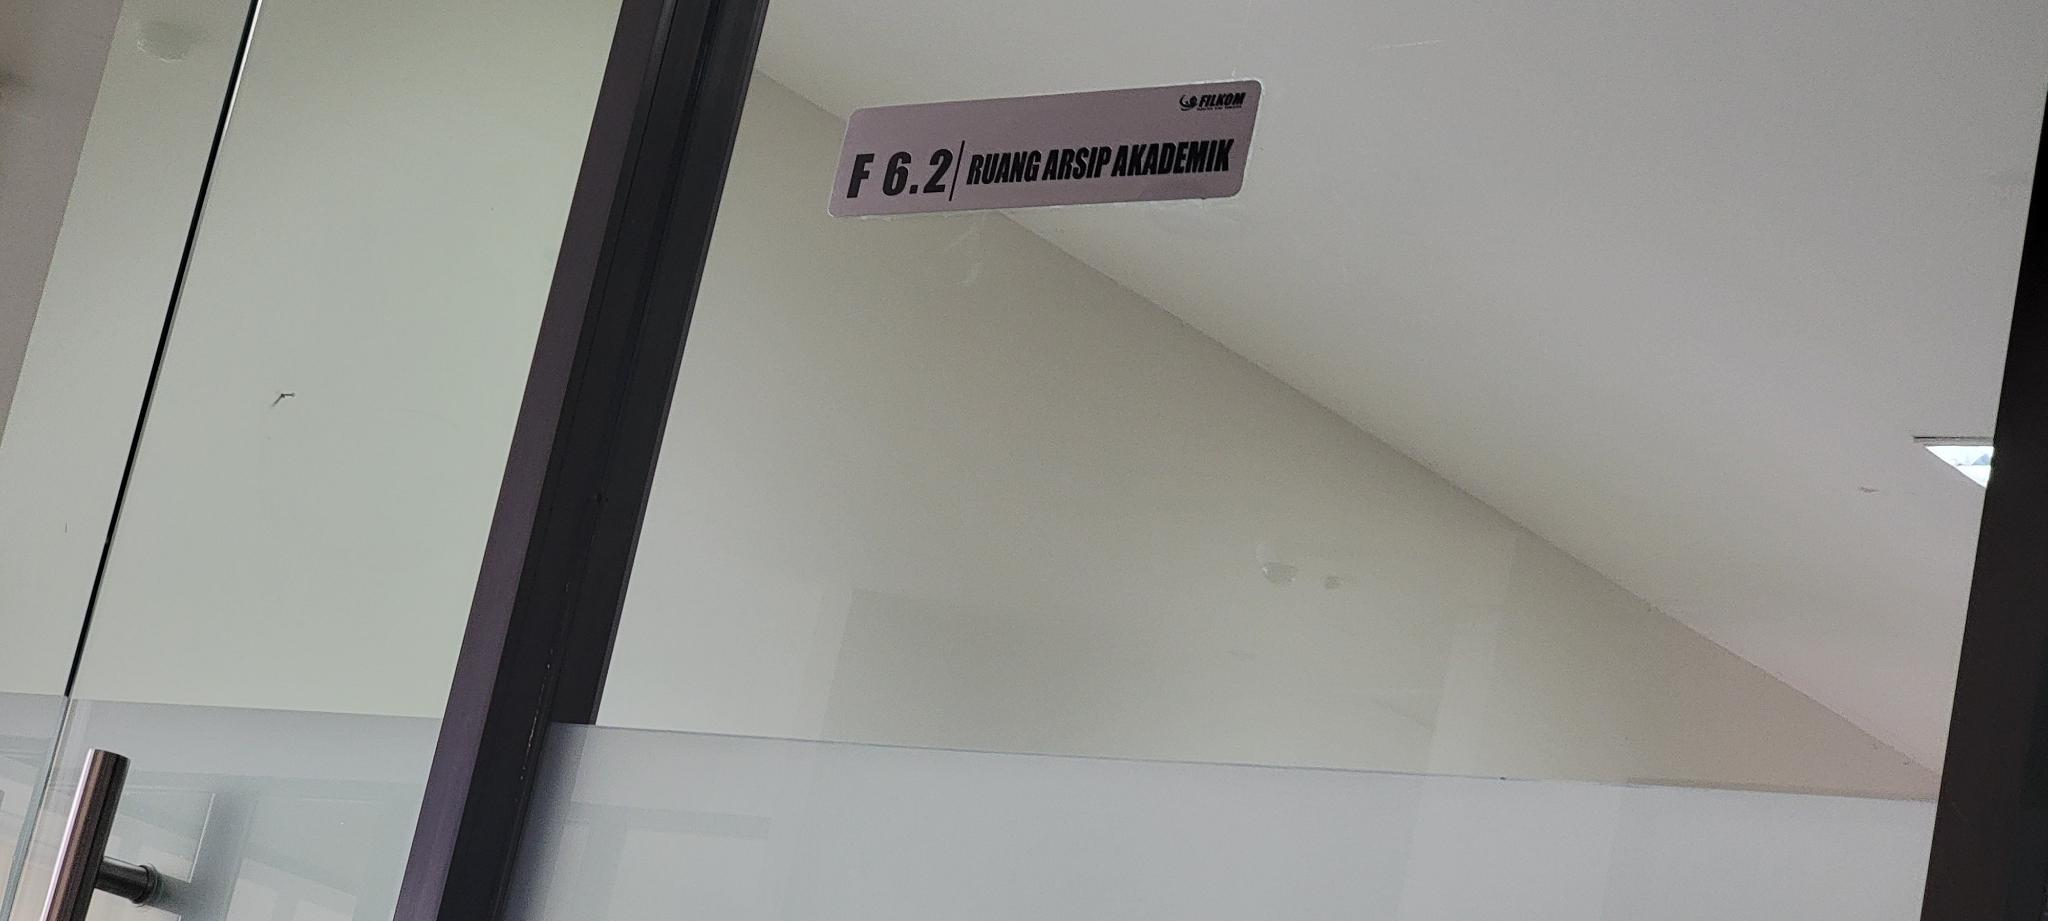plate: (828, 80, 1264, 219)
